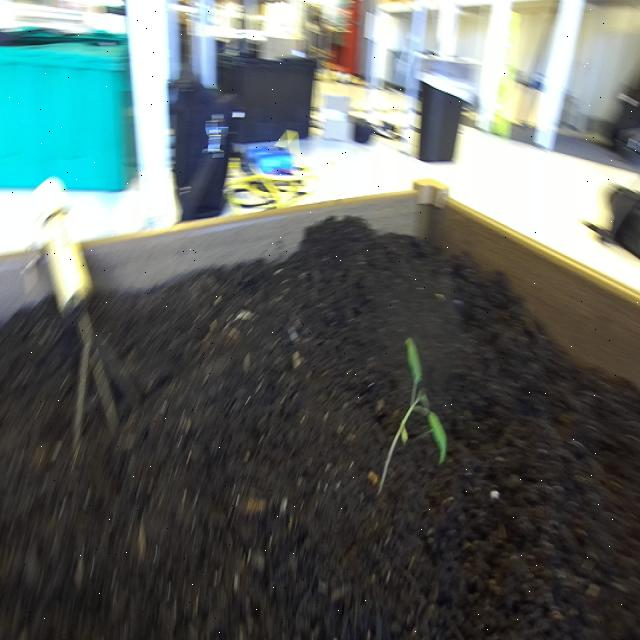Healthy: (374, 329, 451, 504)
